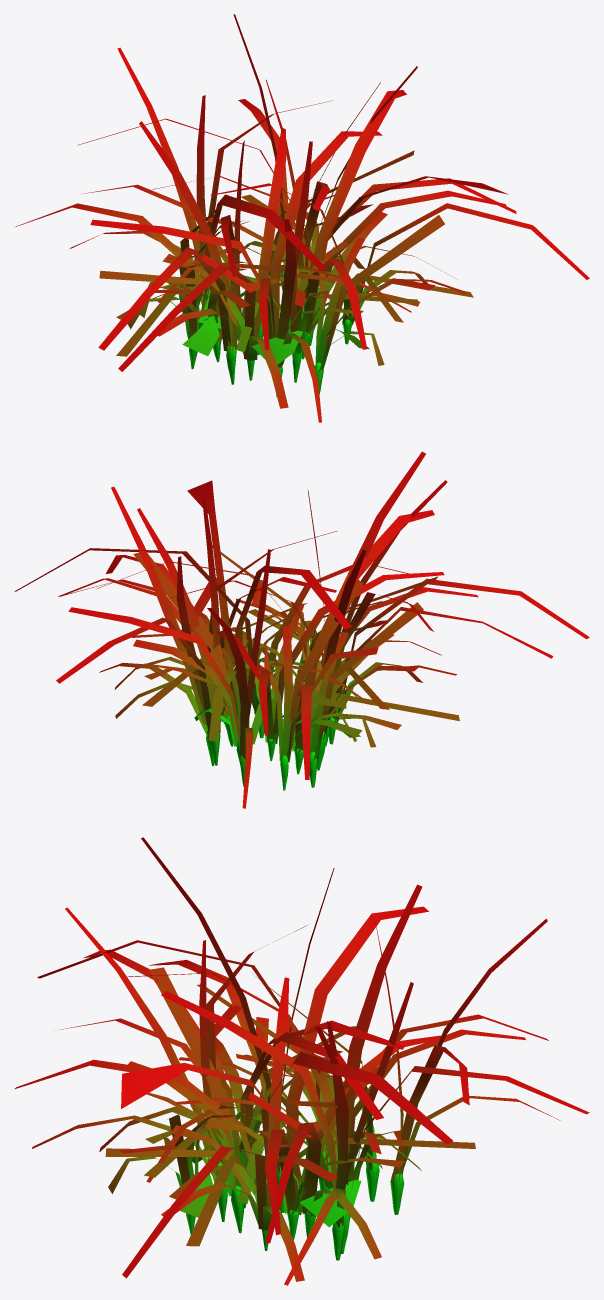
File: Var3.fbx
The picture shows the model from 3 angles, top to bottom: view 1: azimuth 30°, elevation 25°; view 2: azimuth 150°, elevation 25°; view 3: azimuth 270°, elevation 25°; orthographic projection. The views are drawn at different scales.
Visible parts, largest first — view 1: Var3; view 2: Var3; view 3: Var3.
Boxes of the visible parts, x1,y1,x2,y2 form: Var3: (14,14,589,422); Var3: (14,451,589,808); Var3: (14,837,589,1285).
Size of the model in its own units: 60.5 by 37.33 by 53.46.
